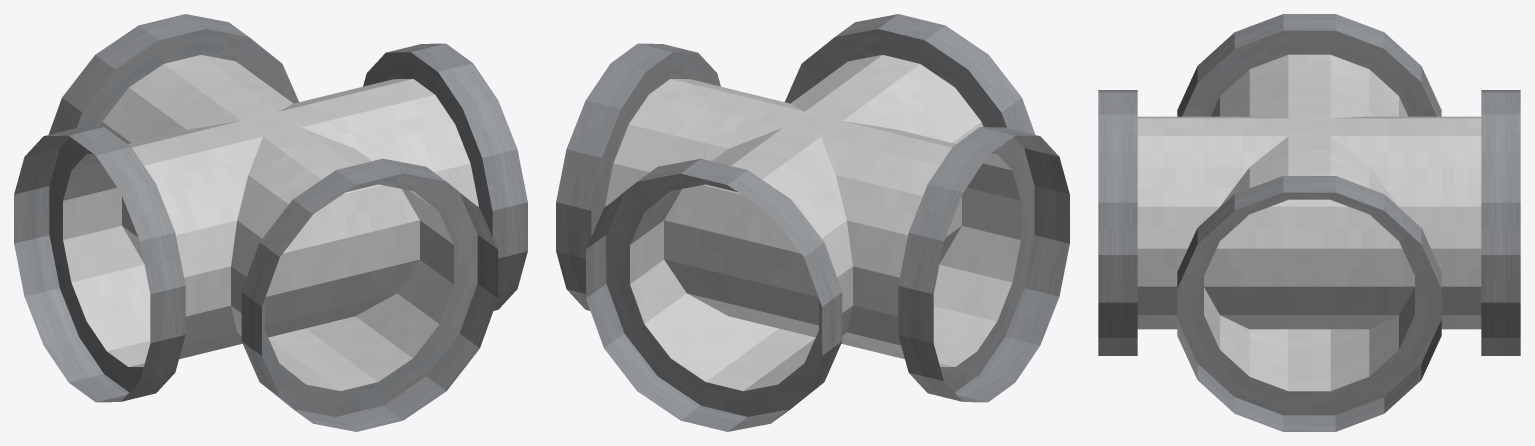
The model's file is connection_60.obj.
3 views of the same model, side by side, from view 1: azimuth 30°, elevation 25°; view 2: azimuth 150°, elevation 25°; view 3: azimuth 270°, elevation 25° (orthographic). The views are drawn at different scales.
Bounding box in the file's own units: 1 × 0.625 × 1.
